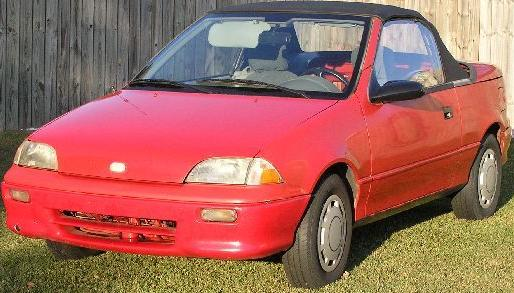front_view: (7, 132, 289, 284)
headlight: (181, 148, 294, 202)
side_glass: (365, 19, 446, 101)
